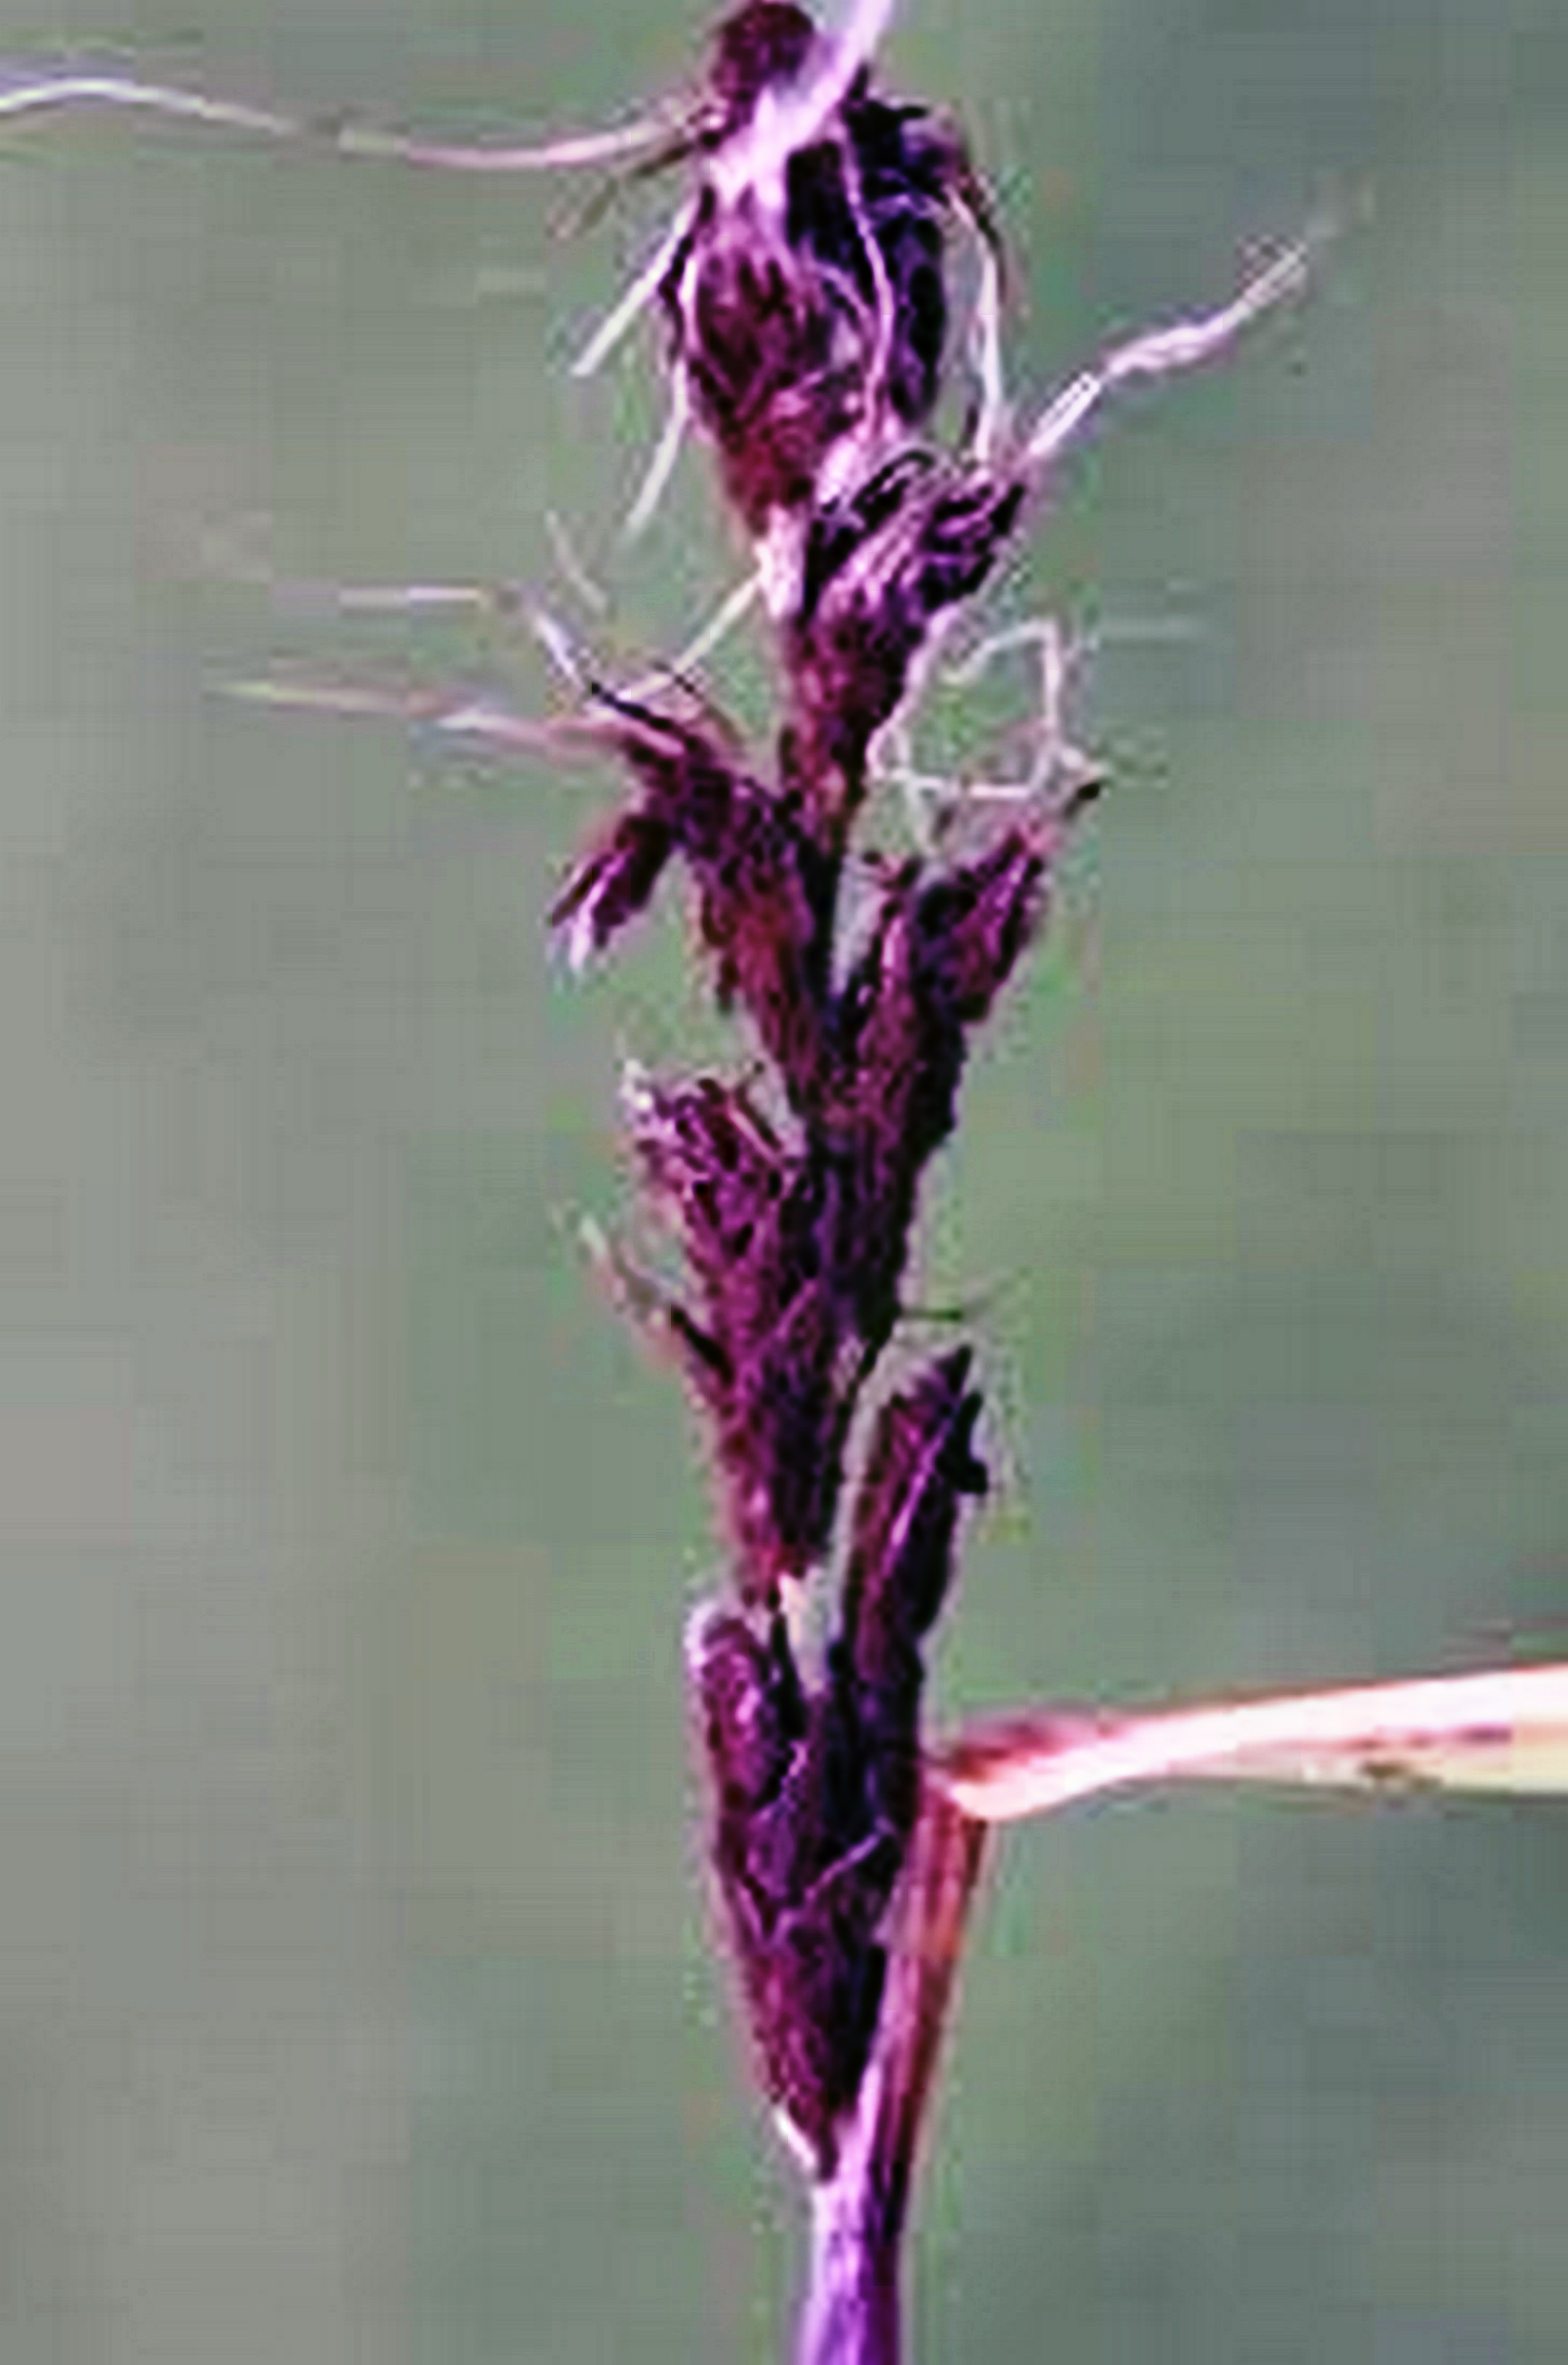Wheat Loose Smut: (481, 63, 1153, 2190)
